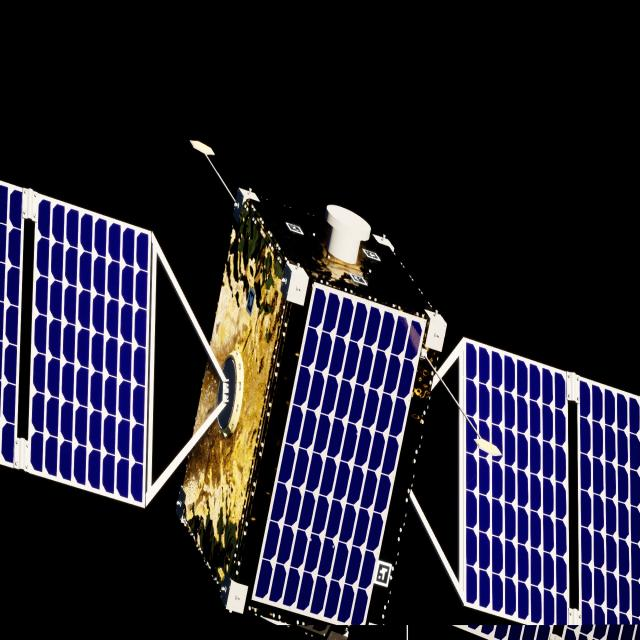medium_debris: (0, 182, 640, 640)
